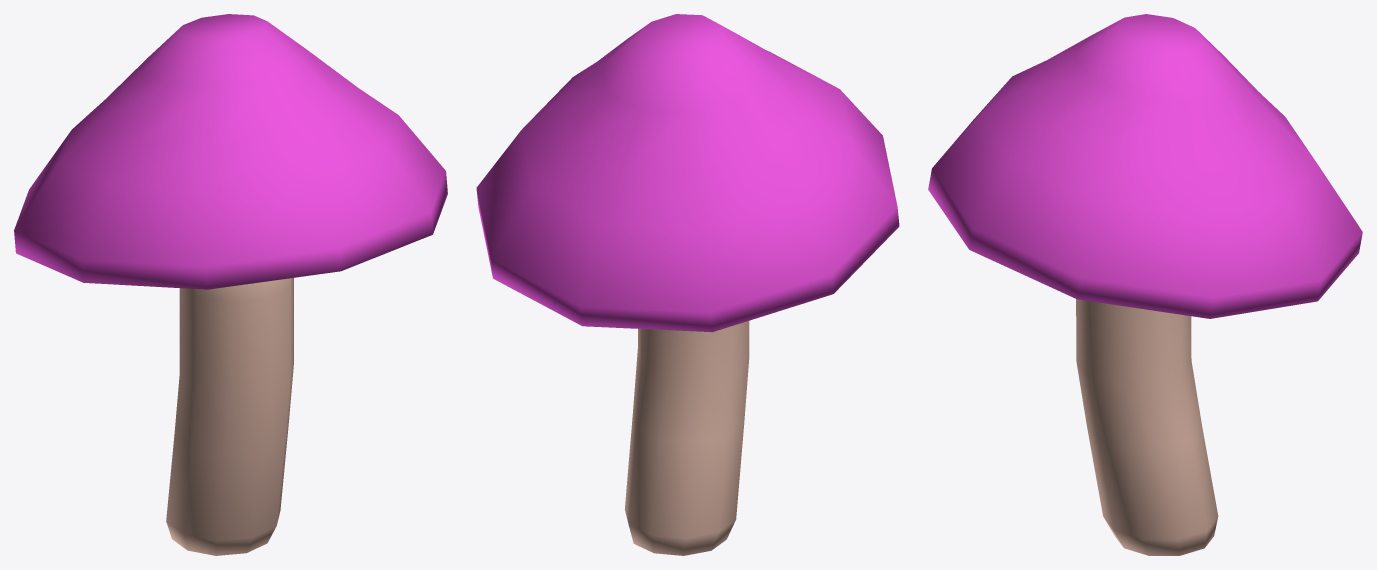
Rendered from BIGMUSHROOMTREE2.fbx.
The picture shows the model from 3 angles, left to right: view 1: azimuth 30°, elevation 25°; view 2: azimuth 150°, elevation 25°; view 3: azimuth 270°, elevation 25°; orthographic projection. The views are drawn at different scales.
Parts seen in each view (by area): view 1: Cylinder.002; view 2: Cylinder.002; view 3: Cylinder.002.
Boxes of the visible parts, x1=… form: Cylinder.002: x1=14, y1=14, x2=447, y2=555; Cylinder.002: x1=476, y1=14, x2=899, y2=555; Cylinder.002: x1=928, y1=14, x2=1362, y2=555.
Size of the model in its own units: 1546 by 2089 by 1618.
